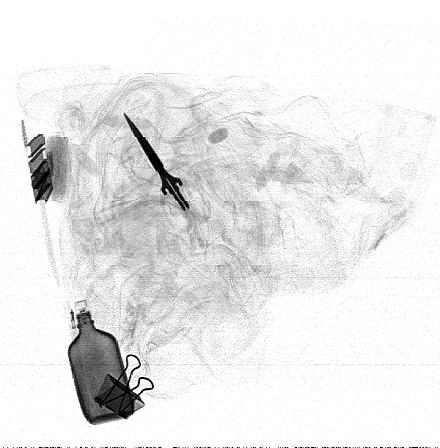Scissors: (117, 105, 216, 238)
